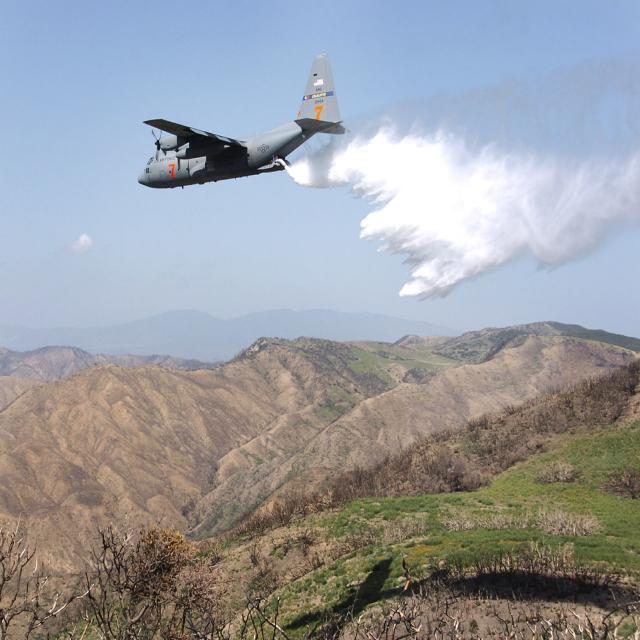MIL_Plane: (138, 53, 352, 189)
